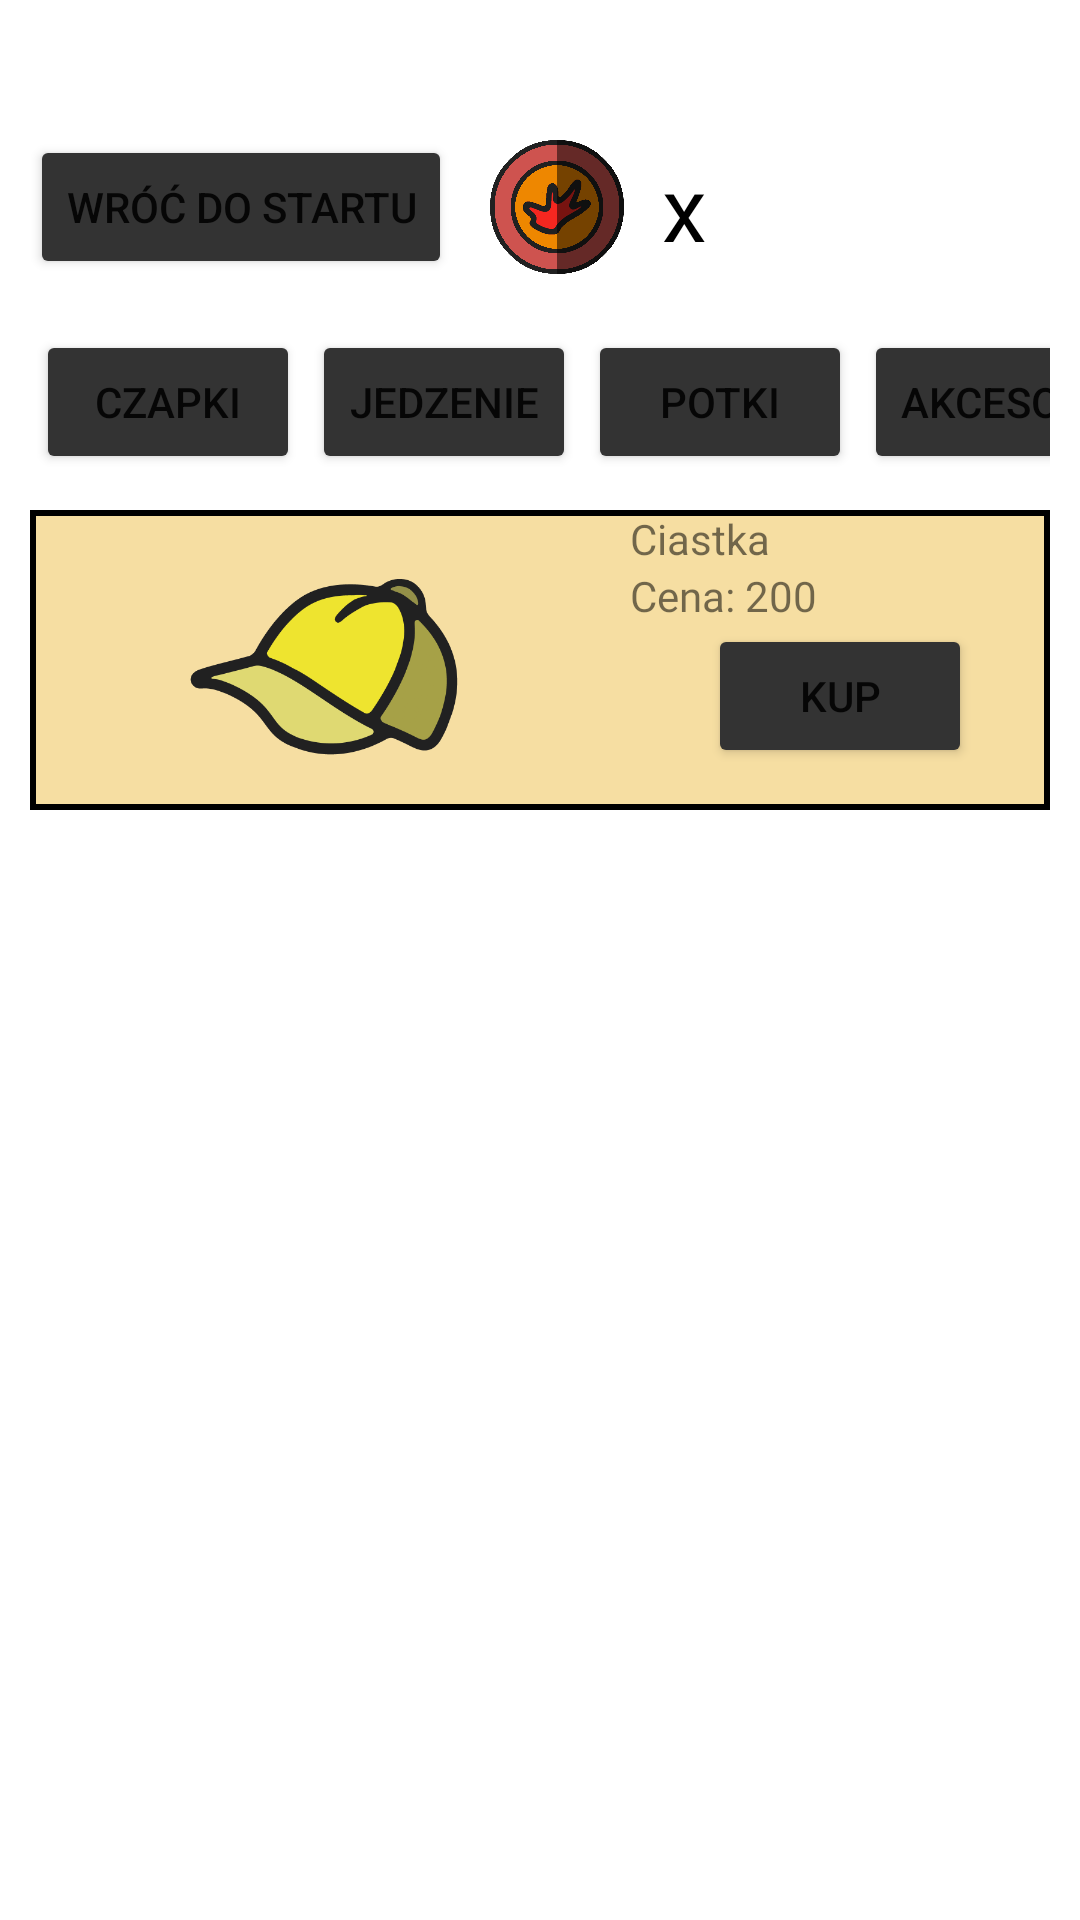

Icon click points for this 1080×1920 phone screenshot, format (x=x, y=y):
crococoin: (x=557, y=207)
